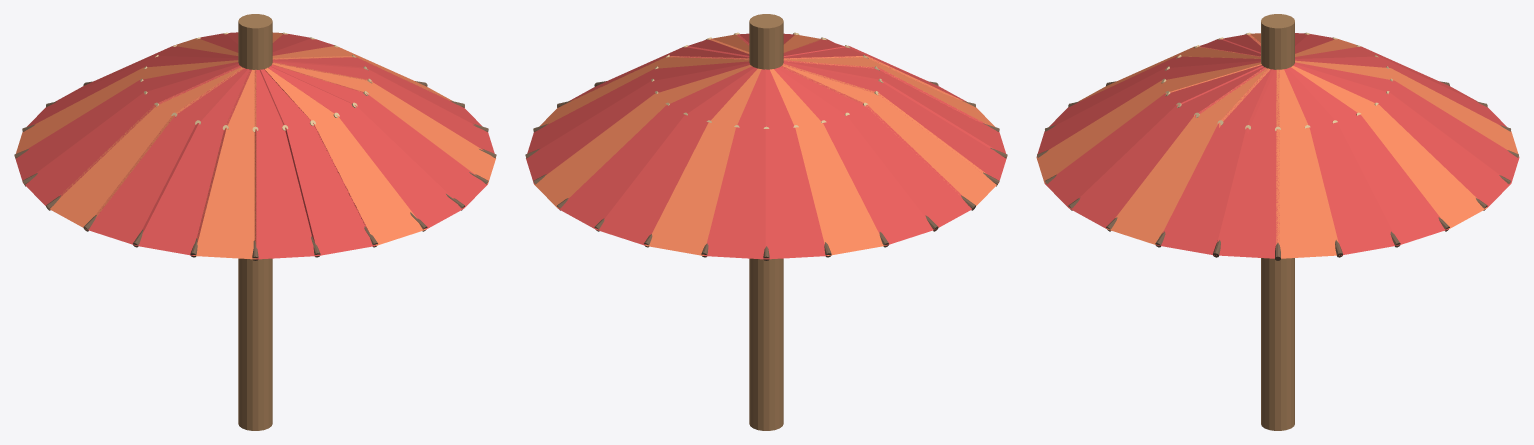
Rendered from wear_wagasa.glb.
The picture shows the model from 3 angles, left to right: view 1: azimuth 30°, elevation 25°; view 2: azimuth 150°, elevation 25°; view 3: azimuth 270°, elevation 25°; orthographic projection.
Parts seen in each view (by area): view 1: Wagasa bamboo shaft, Wagasa curved red canopy.015, Wagasa curved red canopy.016, Wagasa curved red canopy.014, Wagasa curved red canopy.017, Wagasa curved red canopy.013, Wagasa curved red canopy.018, Wagasa curved red canopy.012, Wagasa curved red canopy.019, Wagasa curved red canopy.011, Wagasa curved red canopy.020, Wagasa curved red canopy.021 (+9 smaller); view 2: Wagasa bamboo shaft, Wagasa curved red canopy.008, Wagasa curved red canopy.007, Wagasa curved red canopy.006, Wagasa curved red canopy.009, Wagasa curved red canopy.005, Wagasa curved red canopy.010, Wagasa curved red canopy.011, Wagasa curved red canopy.004, Wagasa curved red canopy.012, Wagasa curved red canopy.003, Wagasa curved red canopy.013 (+9 smaller); view 3: Wagasa bamboo shaft, Wagasa curved red canopy, Wagasa curved red canopy.023, Wagasa curved red canopy.022, Wagasa curved red canopy.001, Wagasa curved red canopy.021, Wagasa curved red canopy.002, Wagasa curved red canopy.020, Wagasa curved red canopy.003, Wagasa curved red canopy.019, Wagasa curved red canopy.004, Wagasa curved red canopy.018 (+9 smaller).
Boxes of the visible parts, box(x1,y1,x2,y2) form: Wagasa bamboo shaft: box(238, 14, 272, 430); Wagasa curved red canopy.015: box(194, 69, 256, 259); Wagasa curved red canopy.016: box(254, 69, 318, 259); Wagasa curved red canopy.014: box(136, 69, 251, 255); Wagasa curved red canopy.017: box(260, 69, 375, 255); Wagasa curved red canopy.013: box(87, 67, 247, 245); Wagasa curved red canopy.018: box(265, 67, 425, 245); Wagasa curved red canopy.012: box(50, 67, 243, 229); Wagasa curved red canopy.019: box(268, 66, 463, 229); Wagasa curved red canopy.011: box(23, 63, 241, 205); Wagasa curved red canopy.020: box(271, 64, 487, 208); Wagasa curved red canopy.021: box(272, 62, 495, 183); Wagasa bamboo shaft: box(749, 14, 783, 430); Wagasa curved red canopy.008: box(765, 69, 827, 259); Wagasa curved red canopy.007: box(703, 69, 765, 259); Wagasa curved red canopy.006: box(646, 68, 761, 255); Wagasa curved red canopy.009: box(770, 69, 885, 255); Wagasa curved red canopy.005: box(596, 67, 757, 245); Wagasa curved red canopy.010: box(774, 68, 934, 245); Wagasa curved red canopy.011: box(777, 66, 971, 229); Wagasa curved red canopy.004: box(558, 66, 754, 229); Wagasa curved red canopy.012: box(781, 63, 998, 205); Wagasa curved red canopy.003: box(534, 65, 751, 208); Wagasa curved red canopy.013: box(783, 62, 1006, 182); Wagasa bamboo shaft: box(1261, 14, 1294, 430); Wagasa curved red canopy: box(1276, 69, 1341, 258); Wagasa curved red canopy.023: box(1214, 69, 1279, 258); Wagasa curved red canopy.022: box(1156, 69, 1274, 255); Wagasa curved red canopy.001: box(1284, 68, 1399, 255); Wagasa curved red canopy.021: box(1107, 68, 1270, 244); Wagasa curved red canopy.002: box(1288, 67, 1448, 244); Wagasa curved red canopy.020: box(1069, 66, 1266, 228); Wagasa curved red canopy.003: box(1291, 65, 1486, 228); Wagasa curved red canopy.019: box(1045, 65, 1263, 207); Wagasa curved red canopy.004: box(1293, 64, 1510, 207); Wagasa curved red canopy.018: box(1036, 62, 1261, 183).
Bounding box in the file's own units: 1.95 × 1.79 × 1.95.
